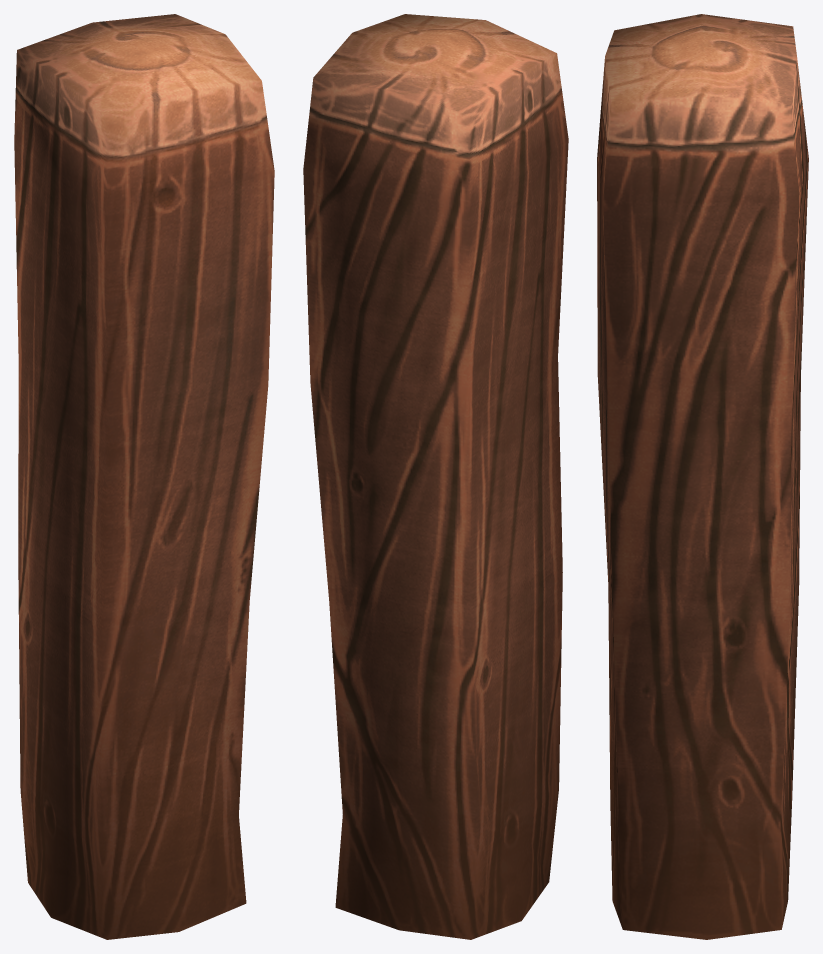
Rendered from fence_pillar1.obj.
3 views of the same model, side by side, from view 1: azimuth 30°, elevation 25°; view 2: azimuth 150°, elevation 25°; view 3: azimuth 270°, elevation 25° (orthographic).
Parts seen in each view (by area): view 1: STPillar1_Cubo.015; view 2: STPillar1_Cubo.015; view 3: STPillar1_Cubo.015.
Boxes of the visible parts, box(x1,y1,x2,y2) form: STPillar1_Cubo.015: box(14, 14, 274, 939); STPillar1_Cubo.015: box(303, 14, 568, 939); STPillar1_Cubo.015: box(597, 14, 808, 939).
Bounding box in the file's own units: 0.2128 × 0.9703 × 0.216.
